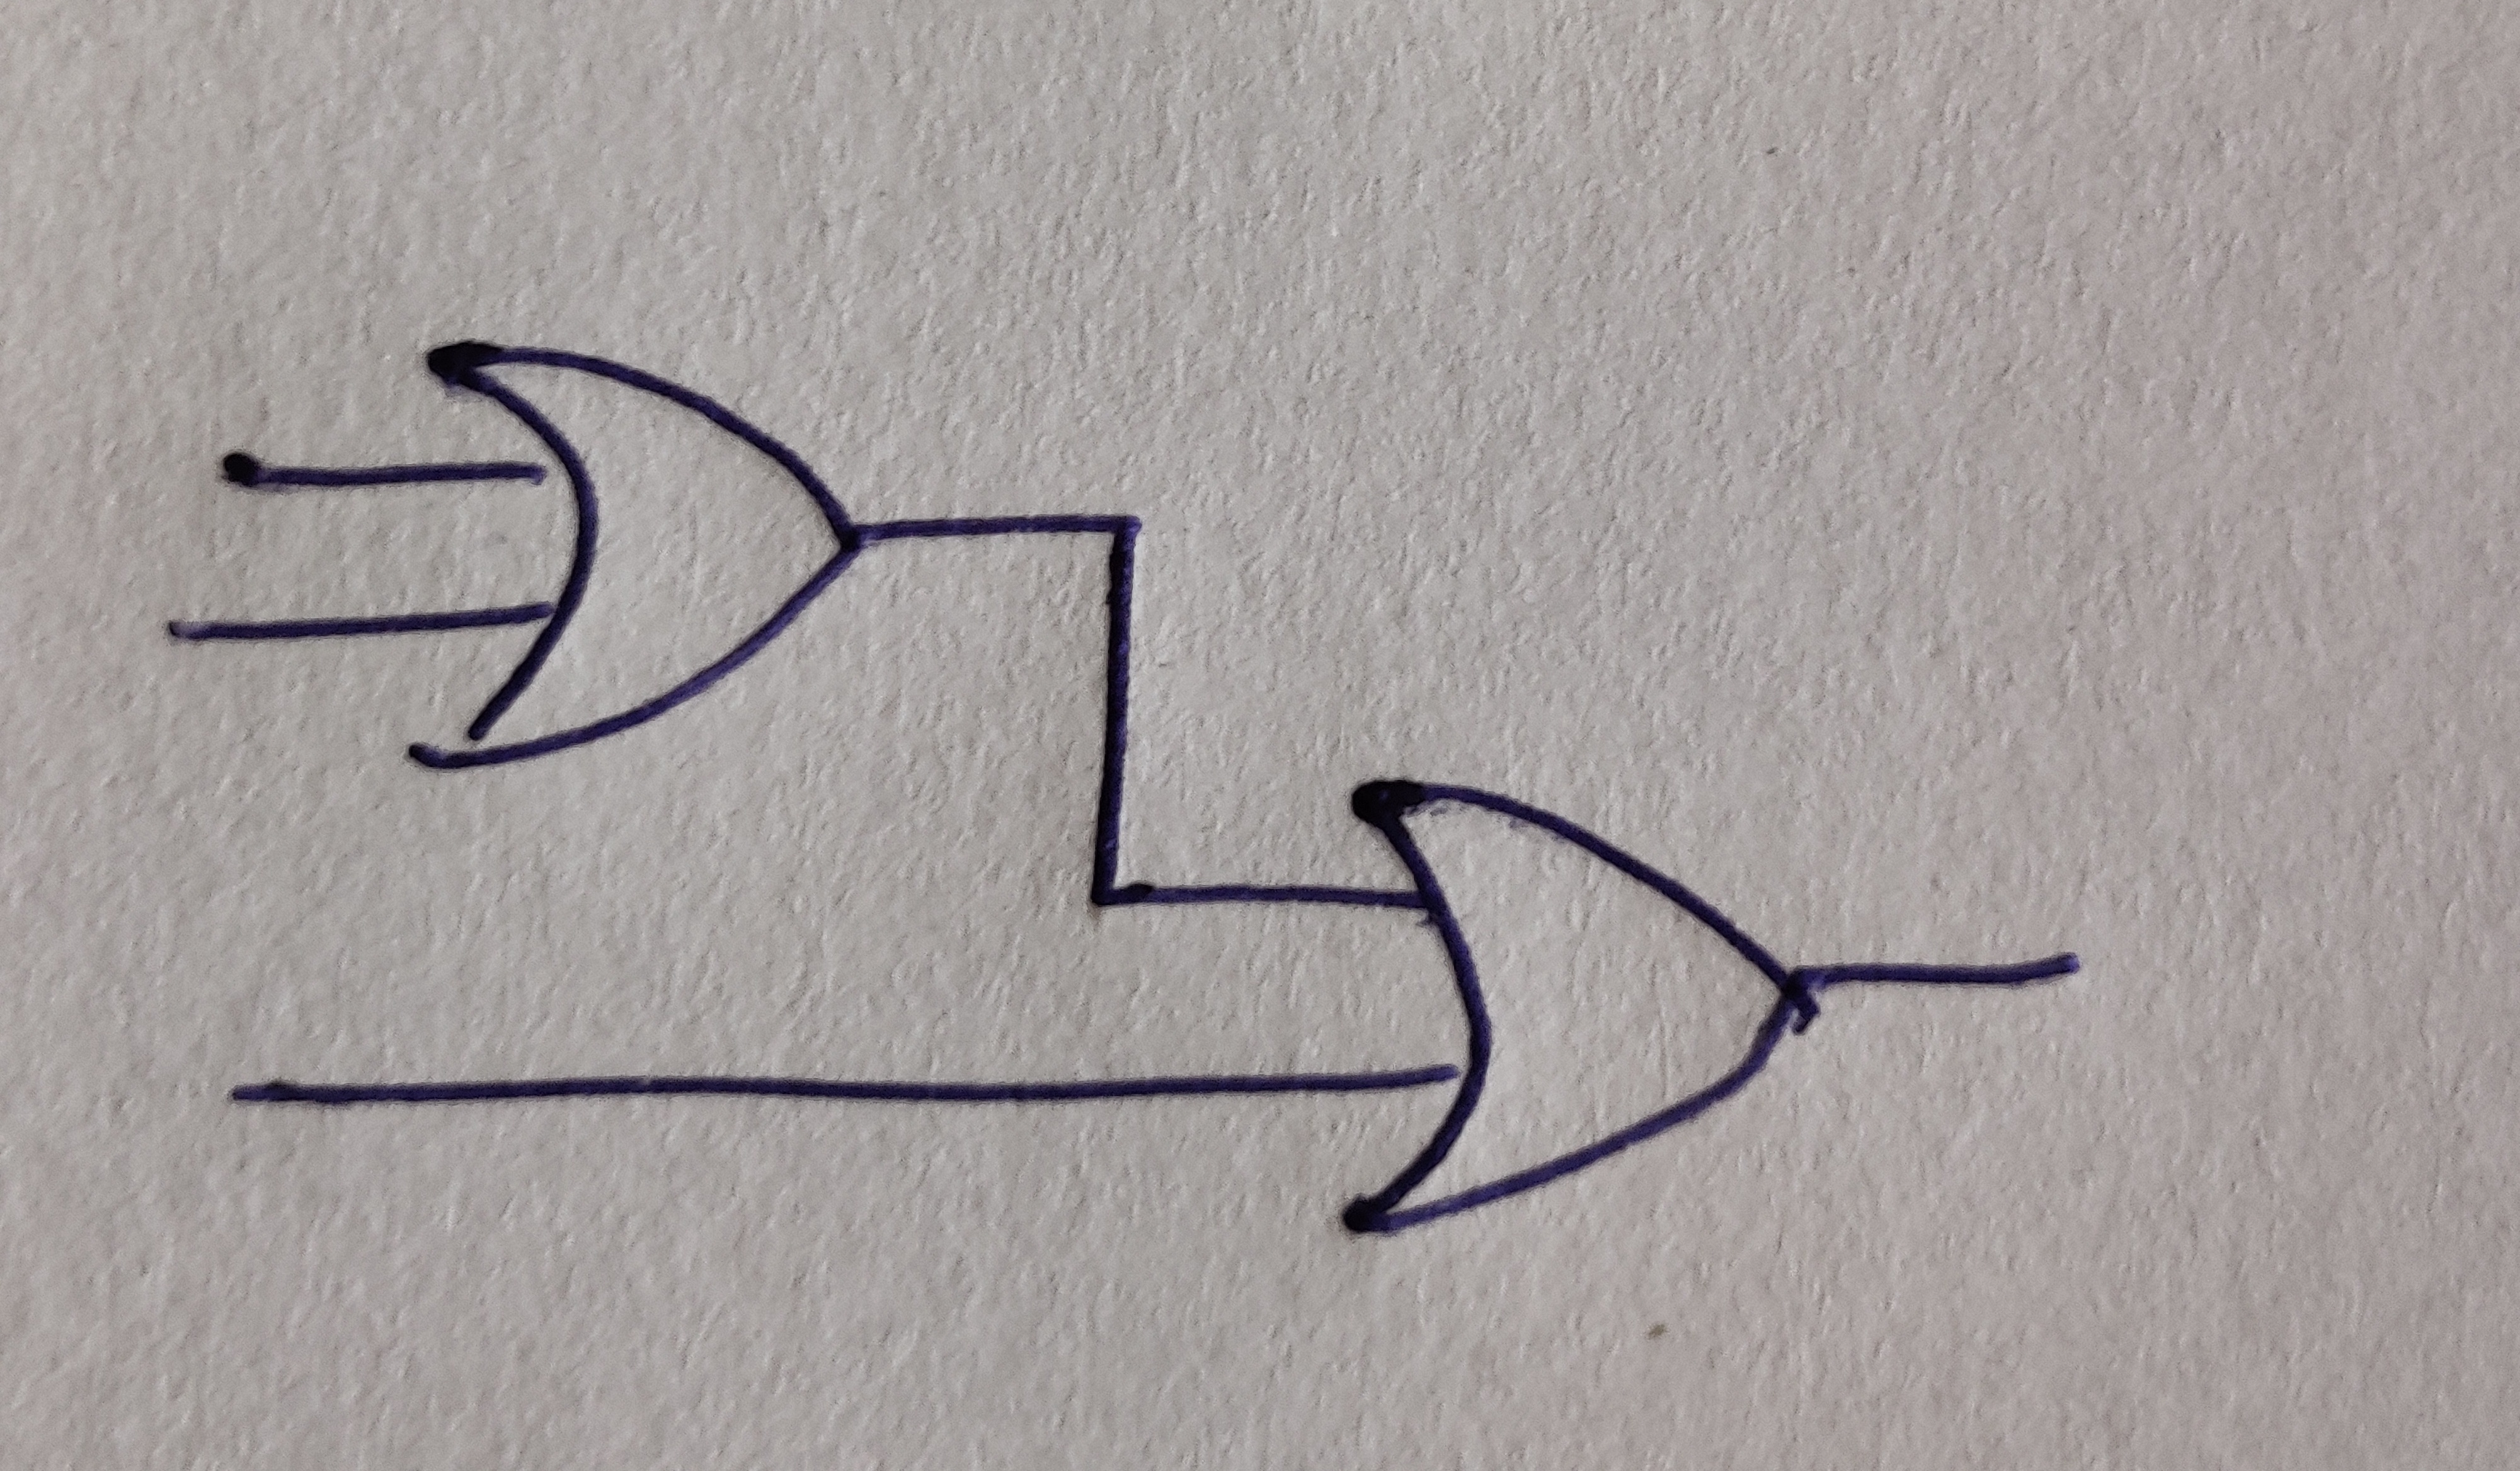or: (1341, 781, 1821, 1236), (408, 336, 863, 771)
